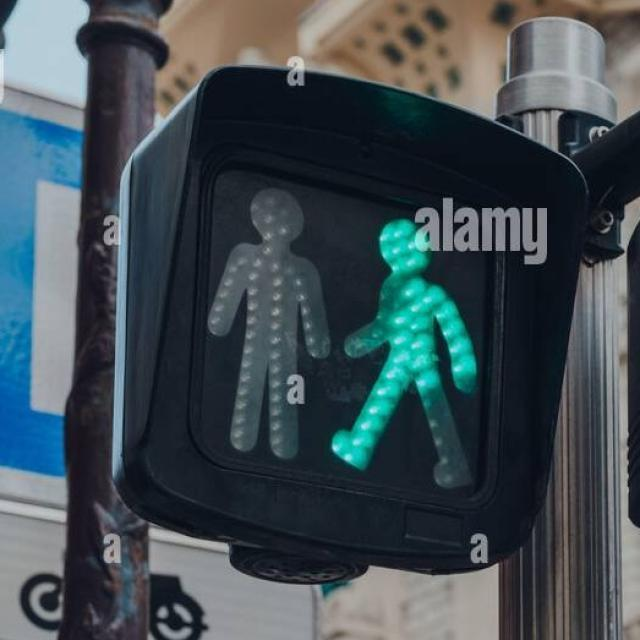geen-crossing: (326, 202, 479, 488)
